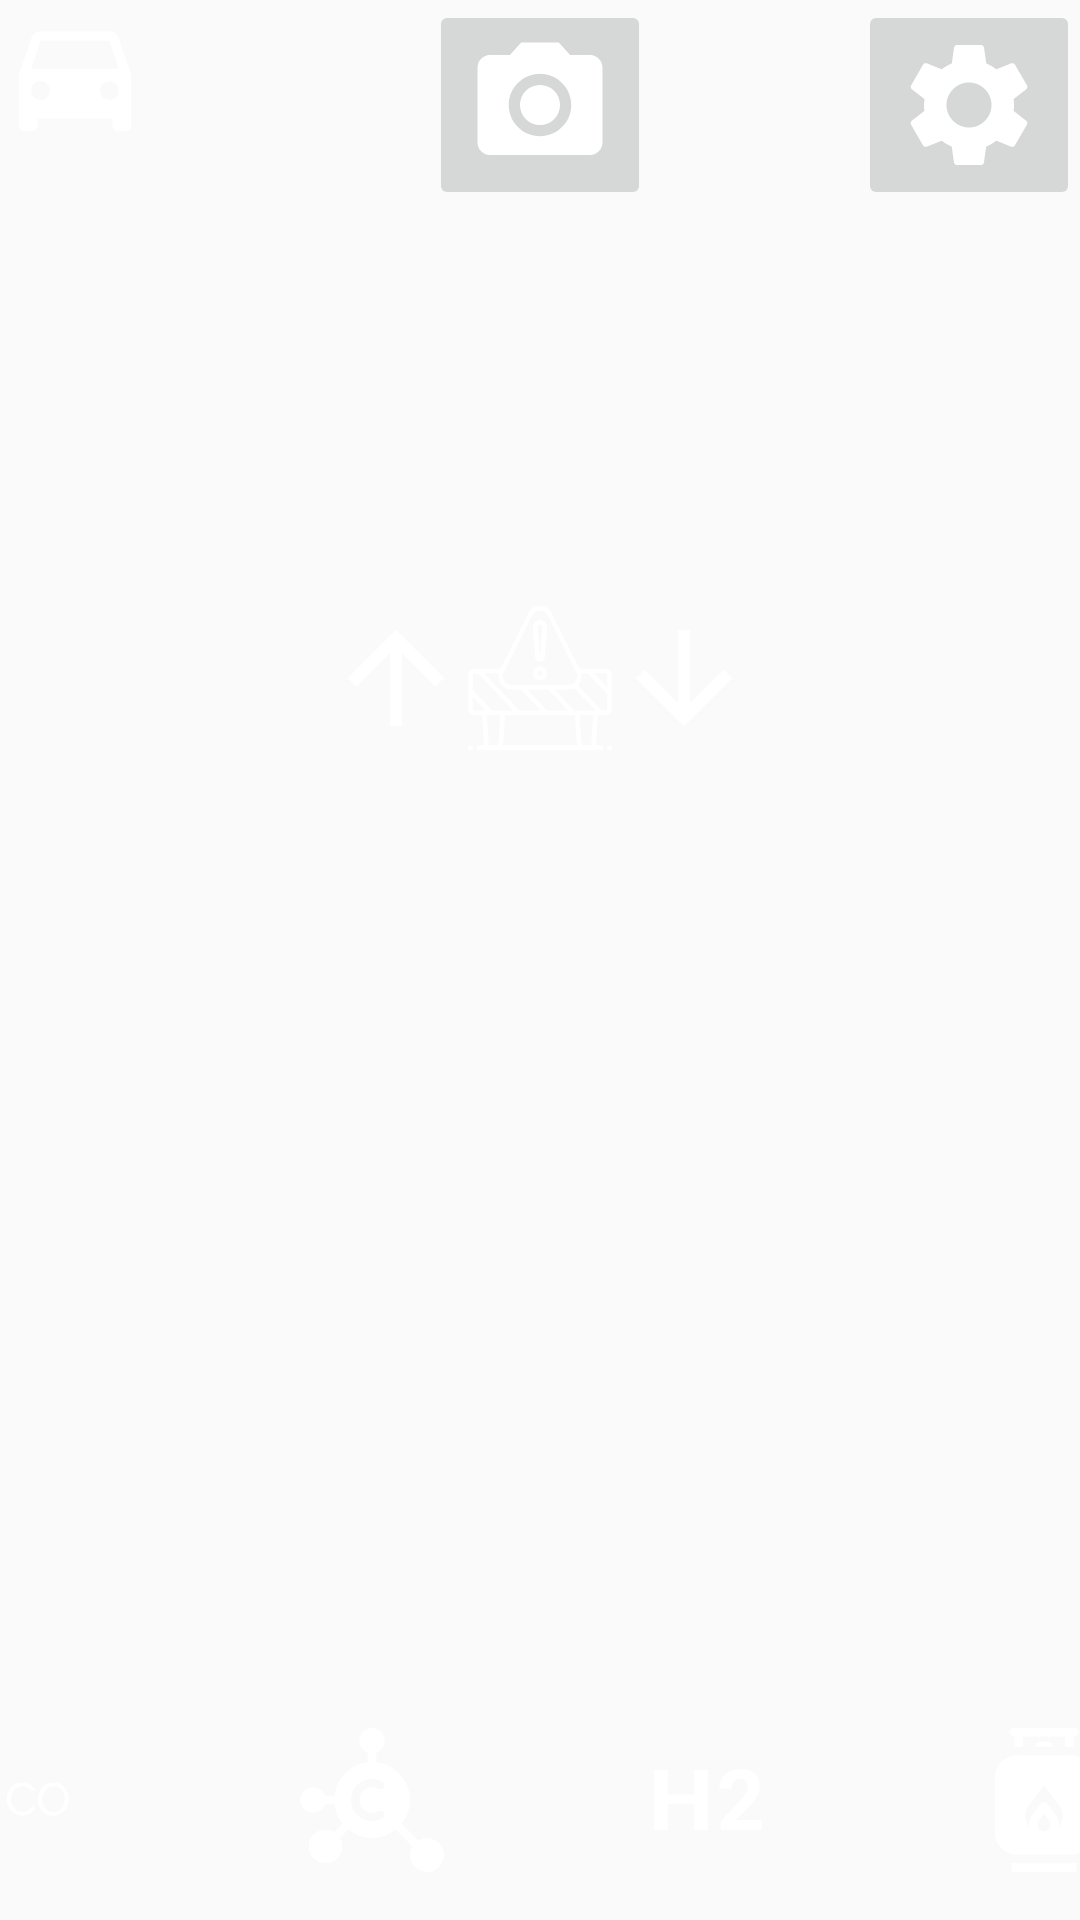

Named icons in this screenshot (1080 × 1920) and their bounding boxes, (x1, y1, x2, y2):
Screenshot: (441, 18, 639, 192)
Settings: (870, 18, 1068, 192)
